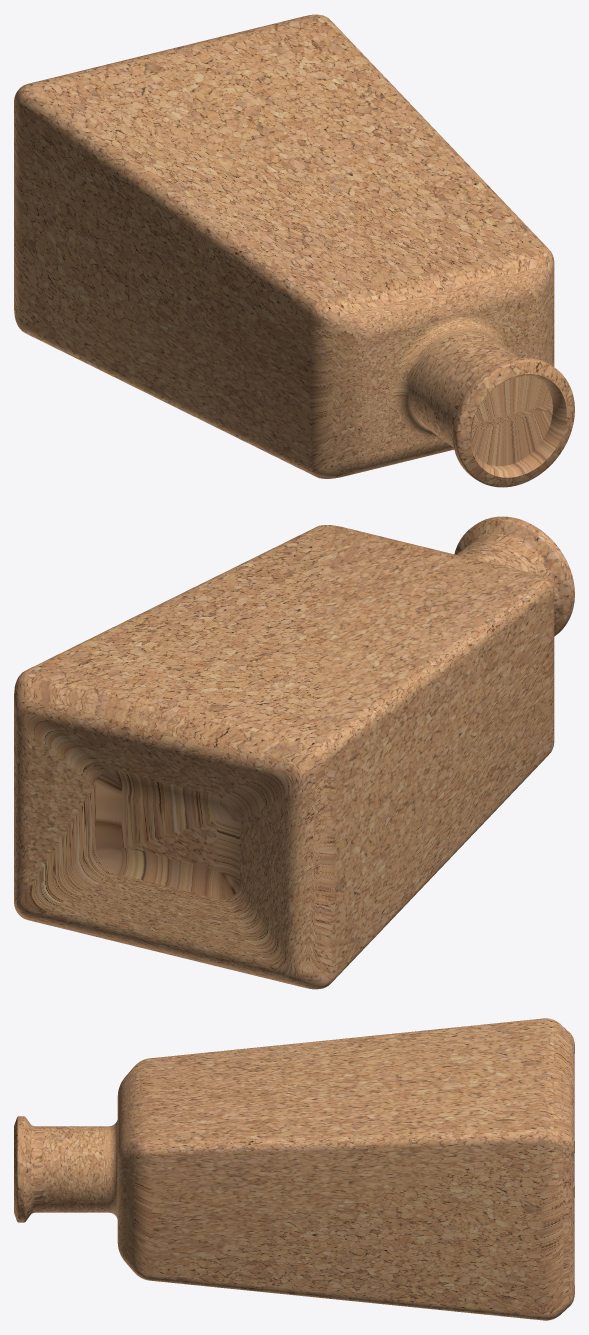
3 views of the same model, one above another, from view 1: azimuth 30°, elevation 25°; view 2: azimuth 150°, elevation 25°; view 3: azimuth 270°, elevation 25° (orthographic). The views are drawn at different scales.
Bounding box in the file's own units: 0.4394 × 0.3297 × 0.878.
1 material, 1 textured.
